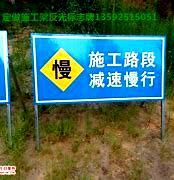sign: (32, 32, 164, 99)
